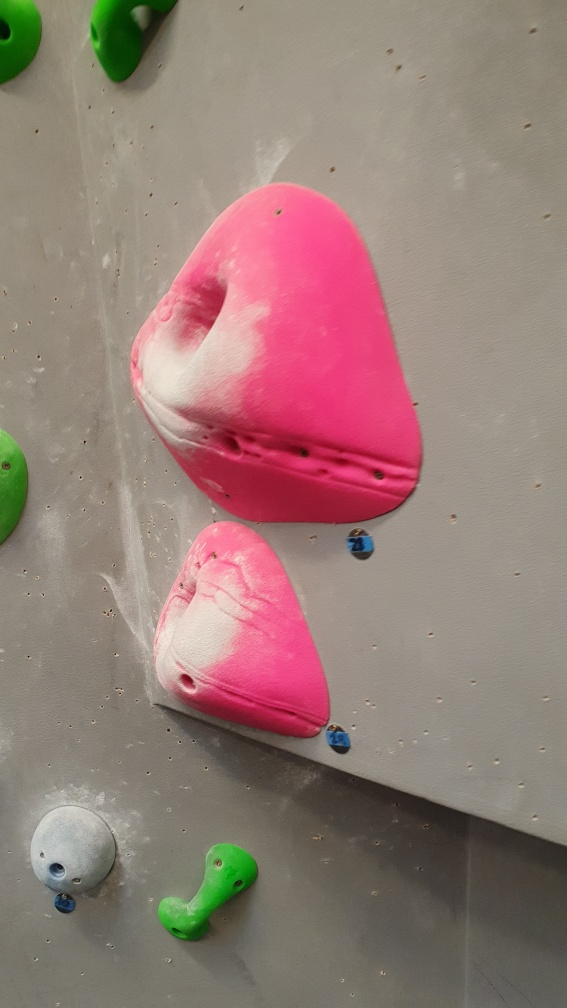Hand Start: (342, 522, 379, 560), (320, 719, 354, 759), (48, 889, 81, 916)
Pocket: (128, 181, 425, 529), (147, 520, 335, 747)
Sloper: (28, 805, 121, 889)
